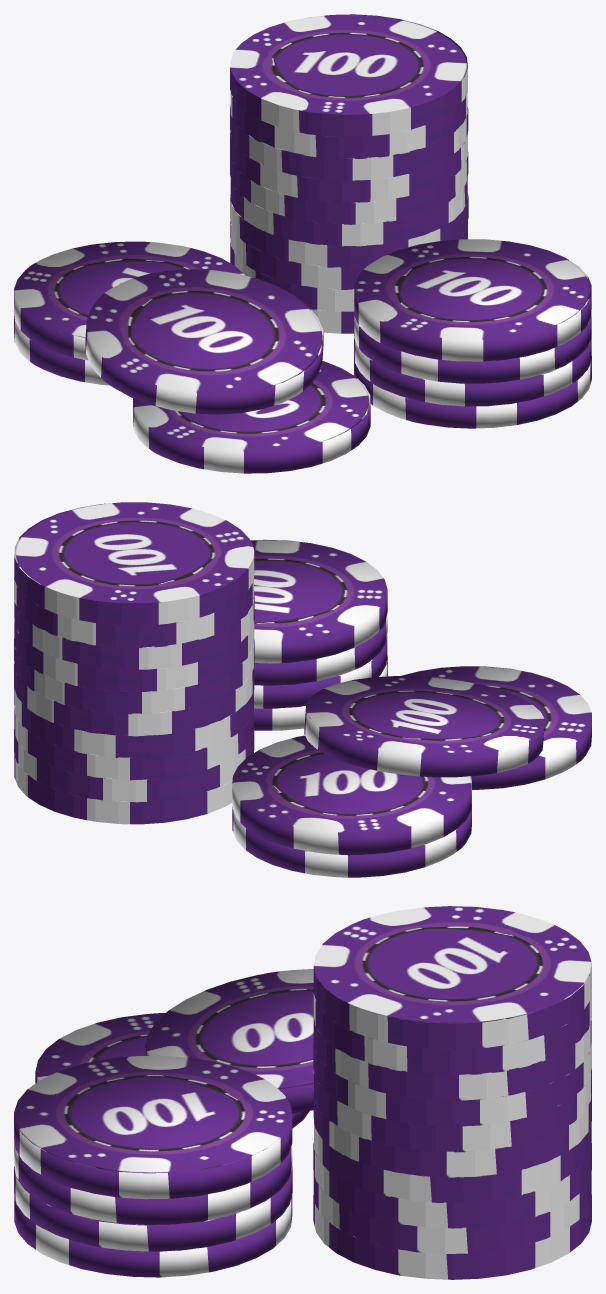
The model's file is WithdrawMoney_1000.fbx.
The picture shows the model from 3 angles, top to bottom: view 1: azimuth 30°, elevation 25°; view 2: azimuth 150°, elevation 25°; view 3: azimuth 270°, elevation 25°; orthographic projection. The views are drawn at different scales.
Parts seen in each view (by area): view 1: Cylinder.008; view 2: Cylinder.008; view 3: Cylinder.008.
Boxes of the visible parts, x1,y1,x2,y2 form: Cylinder.008: (14,14,591,473); Cylinder.008: (14,502,591,877); Cylinder.008: (14,906,591,1279).
Bounding box in the file's own units: 29.53 × 14.62 × 29.89.
